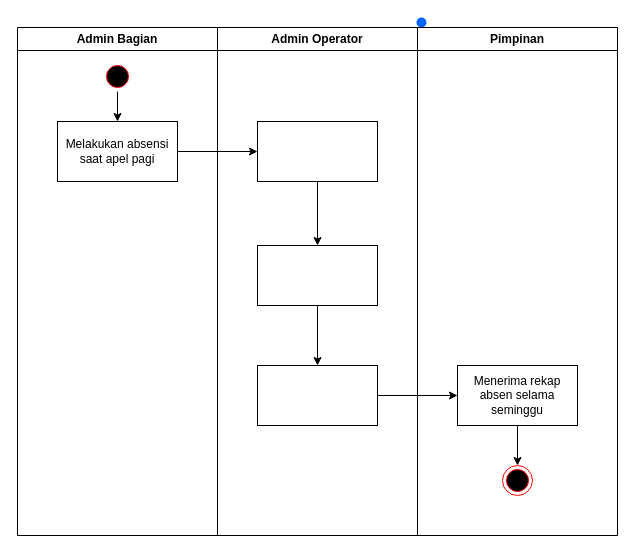
The diagram is 635 pixels wide and 553 high, and some of its shapes have lost their labels. The shapes that lost their labels are listed below. From the top down, each one's box as (x1, y1, x2, y2) in pixels, then its label:
(256, 120, 378, 182): Mengompulir absen masing-masing bagian
(256, 244, 378, 306): Merekap absensi masing-masing bagian selama seminggu
(256, 364, 378, 426): Melaporkan absen selama seminggu
